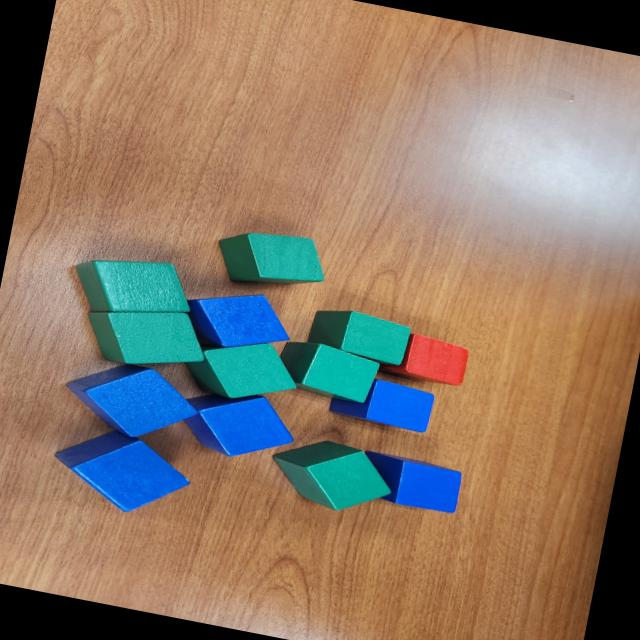blue: (44, 419, 198, 524), (55, 350, 204, 451), (175, 381, 302, 469), (178, 282, 297, 364), (351, 448, 464, 518), (326, 370, 436, 434)
green: (264, 429, 401, 524), (78, 294, 212, 379), (176, 326, 304, 412), (66, 246, 200, 328), (210, 220, 332, 300), (274, 334, 382, 406), (306, 302, 416, 368)
red: (382, 328, 473, 389)
